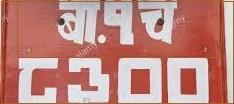0: (114, 54, 165, 104), (164, 54, 212, 104)
1: (101, 1, 137, 48)
3: (65, 54, 111, 104)
8: (14, 54, 61, 104)
ba: (54, 1, 103, 50)
cha: (135, 1, 180, 50)
